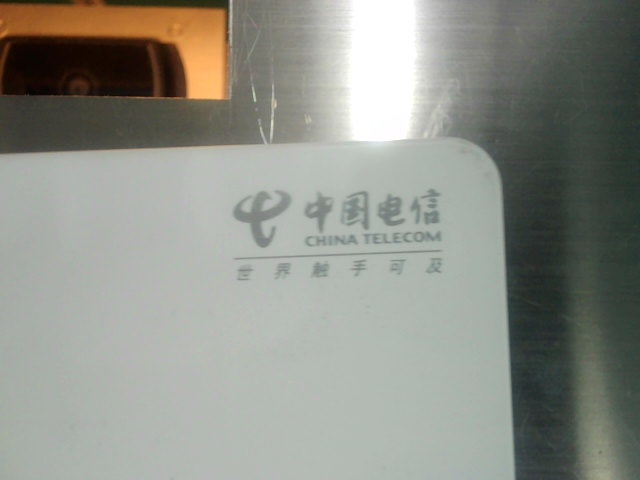AB_ChinaTelecom: (223, 182, 458, 285)
